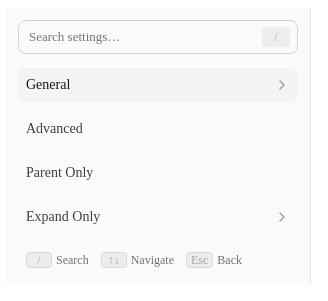
Scenario: SetteraSidebar › filters pages during search to only matching pages
Type "Debug" into the search field at (158, 37), box [18,20,298,54]
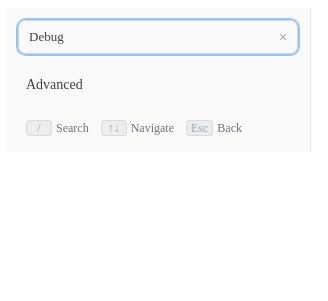
Expected: the button "Advanced" is shown, [18,68,298,102]
Expected: the button "Parent Only" is gone
